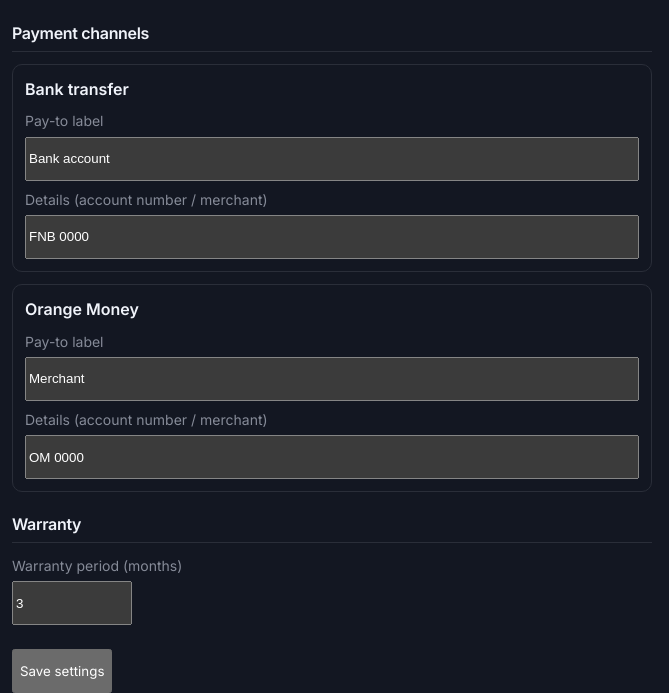
Scenario: SettingsForm › shows error message when action returns error
This screenshot has width=669, height=693.
(page scrolled)
Click the button "Save settings" at (62, 671), box left=12, top=649, right=112, bottom=692
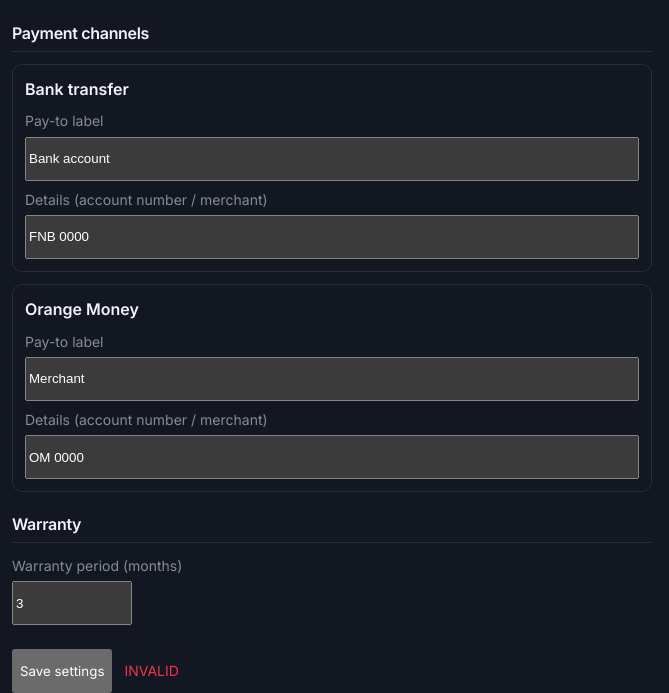
Now the text "INVALID" is shown, box left=124, top=660, right=179, bottom=682
